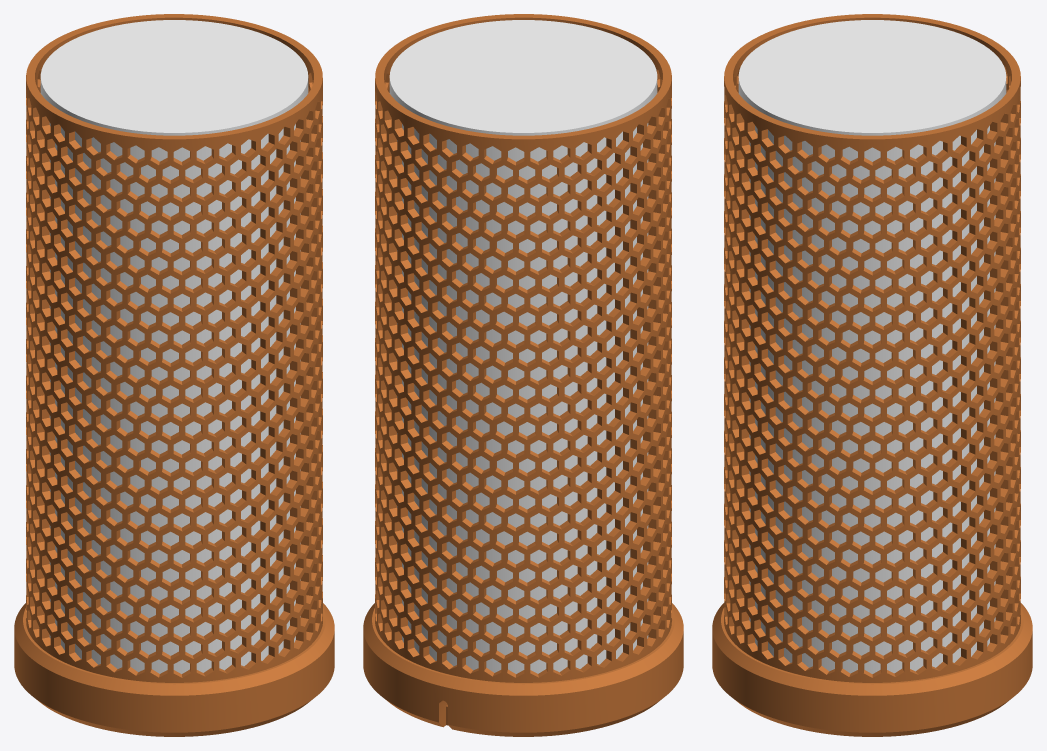
Rendered from lampara-hexagonal.glb.
3 views of the same model, side by side, from view 1: azimuth 30°, elevation 25°; view 2: azimuth 150°, elevation 25°; view 3: azimuth 270°, elevation 25° (orthographic).
Visible parts, largest first — view 1: Hex_Light_-_Foxwood_Black, KumikoLEDKIT001-VaseModeShadeLARGE_Off, KumikoLEDKIT001-BaseMain_50M_LED_Final_Black; view 2: Hex_Light_-_Foxwood_Black, KumikoLEDKIT001-VaseModeShadeLARGE_Off, KumikoLEDKIT001-BaseMain_50M_LED_Final_Black; view 3: Hex_Light_-_Foxwood_Black, KumikoLEDKIT001-VaseModeShadeLARGE_Off, KumikoLEDKIT001-BaseMain_50M_LED_Final_Black.
Boxes of the visible parts, x1,y1,x2,y2 form: Hex_Light_-_Foxwood_Black: [26, 14, 322, 682]; KumikoLEDKIT001-VaseModeShadeLARGE_Off: [40, 20, 308, 673]; KumikoLEDKIT001-BaseMain_50M_LED_Final_Black: [14, 603, 334, 736]; Hex_Light_-_Foxwood_Black: [375, 14, 671, 682]; KumikoLEDKIT001-VaseModeShadeLARGE_Off: [389, 20, 657, 673]; KumikoLEDKIT001-BaseMain_50M_LED_Final_Black: [363, 603, 683, 736]; Hex_Light_-_Foxwood_Black: [724, 14, 1020, 682]; KumikoLEDKIT001-VaseModeShadeLARGE_Off: [738, 20, 1006, 673]; KumikoLEDKIT001-BaseMain_50M_LED_Final_Black: [712, 603, 1032, 736].
Bounding box in the file's own units: 0.11 × 0.2259 × 0.11.
